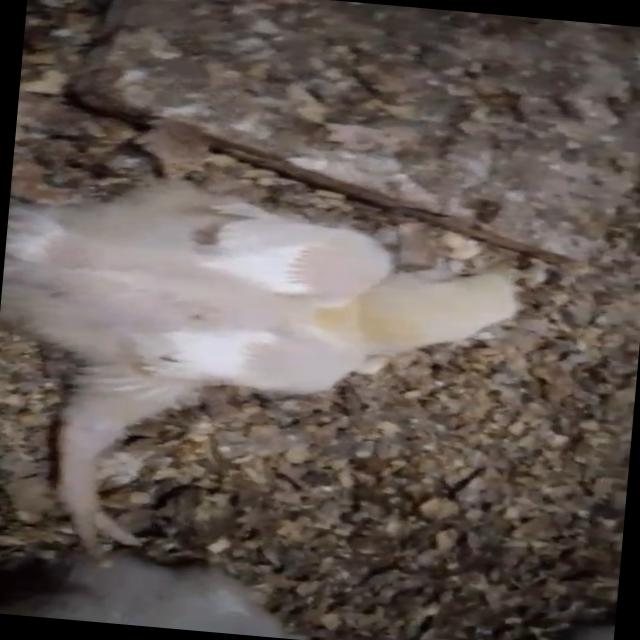abnormal chicken: (0, 155, 563, 603)
